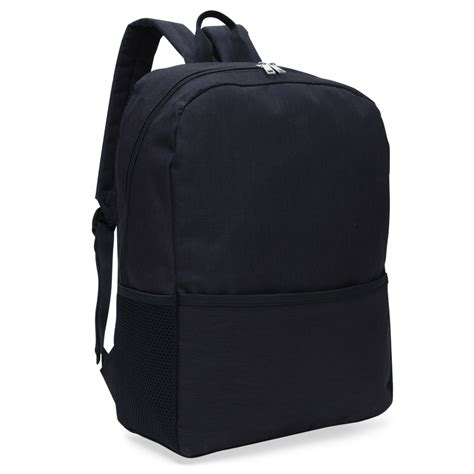nylon: (93, 18, 395, 458)
